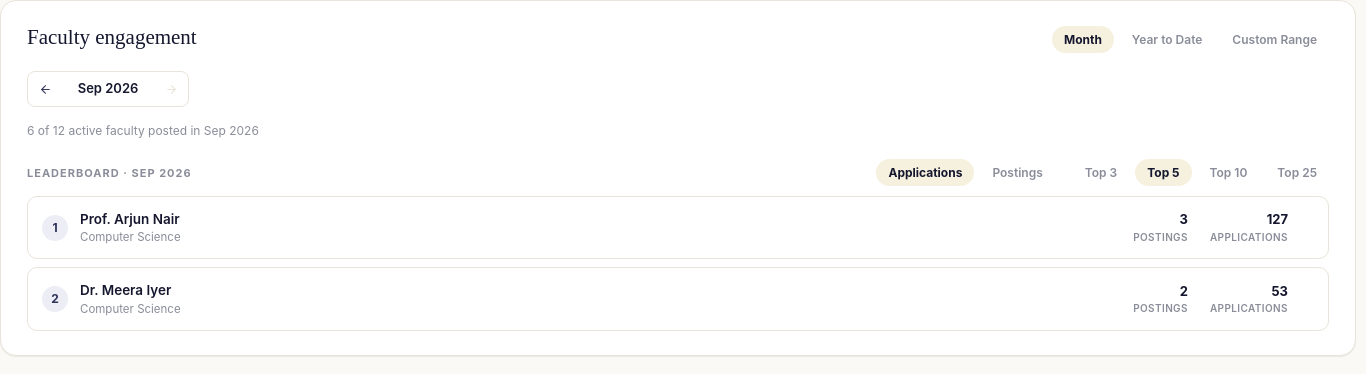
FacultyEngagement › switches to Custom Range, showing From/To month pickers and refetching with from/to
Expected: the text "Prof. Arjun Nair" is shown, [80,211,180,227]
Click the button "Custom Range" at (1275, 40), box [1220,26,1329,53]
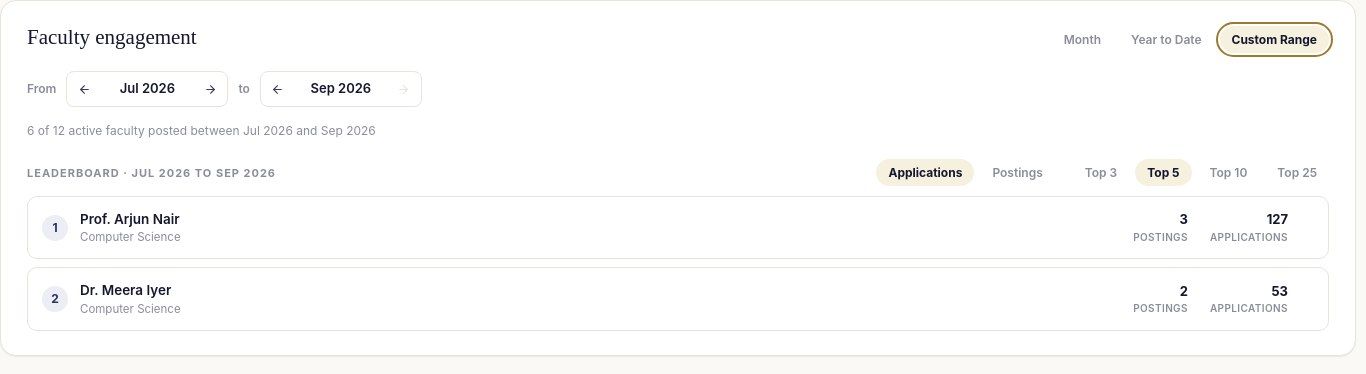
Expected: the text "From" is shown, [27,80,56,98]
Expected: the text "to" is shown, [238,80,250,98]
